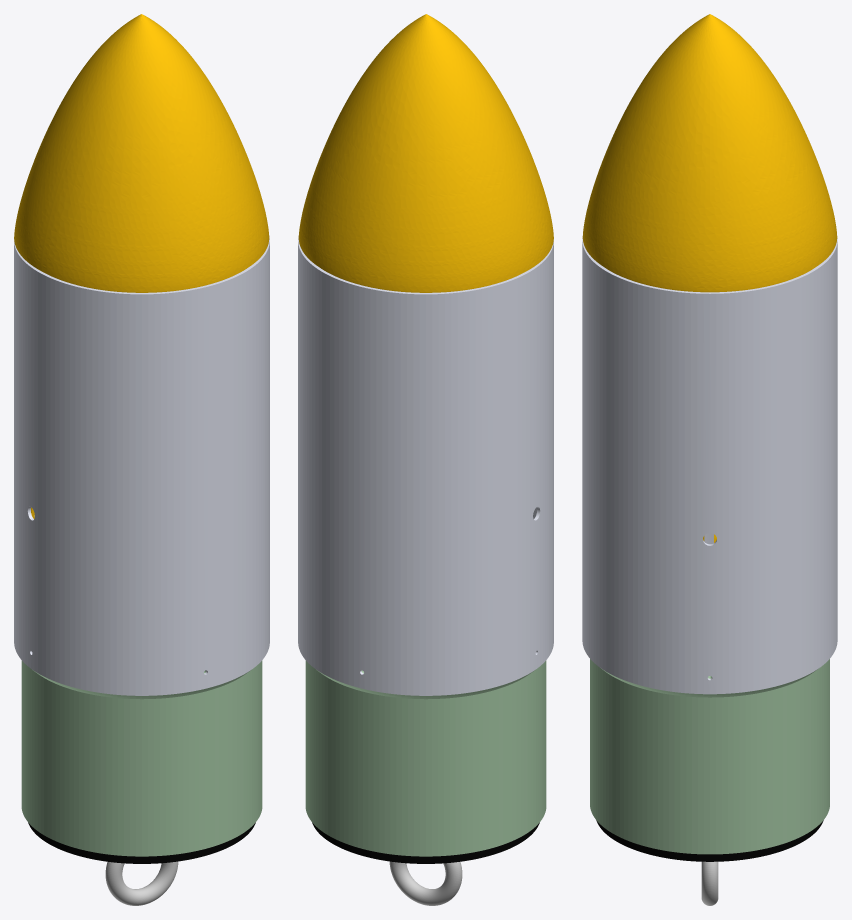
File: CANSAT_CONTAINER.glb
The picture shows the model from 3 angles, left to right: view 1: azimuth 30°, elevation 25°; view 2: azimuth 150°, elevation 25°; view 3: azimuth 270°, elevation 25°; orthographic projection.
Parts seen in each view (by area): view 1: Node5, Node2, Node4, Node3, Node1; view 2: Node5, Node2, Node4, Node3, Node1; view 3: Node5, Node2, Node4, Node1, Node3.
Boxes of the visible parts, x1,y1,x2,y2 form: Node5: (14, 236, 269, 695); Node2: (14, 14, 269, 518); Node4: (21, 660, 262, 856); Node3: (105, 861, 178, 905); Node1: (28, 822, 255, 863); Node5: (298, 236, 553, 695); Node2: (298, 14, 553, 292); Node4: (305, 660, 546, 856); Node3: (389, 861, 462, 905); Node1: (312, 822, 539, 863); Node5: (582, 238, 837, 694); Node2: (582, 14, 837, 542); Node4: (590, 659, 829, 854); Node1: (596, 820, 823, 861); Node3: (701, 861, 718, 905).
Size of the model in its own units: 144 by 554 by 144.
